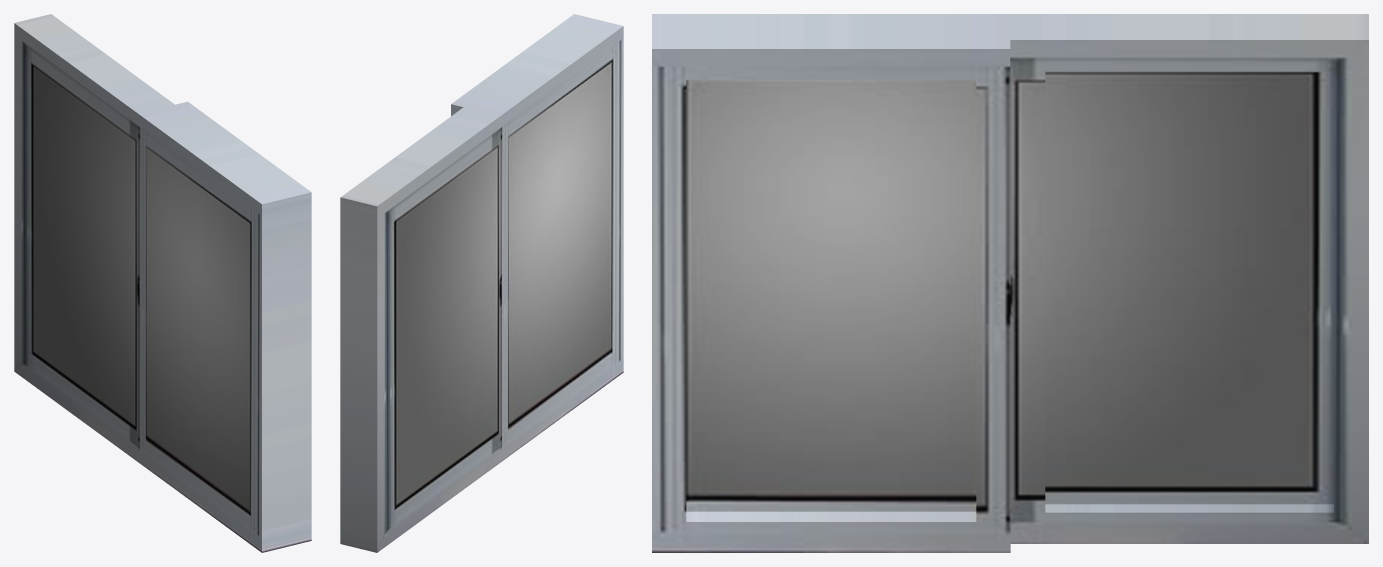
Rendered from ventana.fbx.
3 renders of one model, left to right at view 1: azimuth 30°, elevation 25°; view 2: azimuth 150°, elevation 25°; view 3: azimuth 270°, elevation 25°, orthographic. The views are drawn at different scales.
Parts seen in each view (by area): view 1: Cube; view 2: Cube; view 3: Cube.
Part boxes in pixels (bbox=[...]): Cube: bbox=[14, 14, 311, 552]; Cube: bbox=[340, 14, 623, 552]; Cube: bbox=[652, 14, 1368, 552].
Size of the model in its own units: 82.91 by 556 by 717.
1 material, 1 textured.
